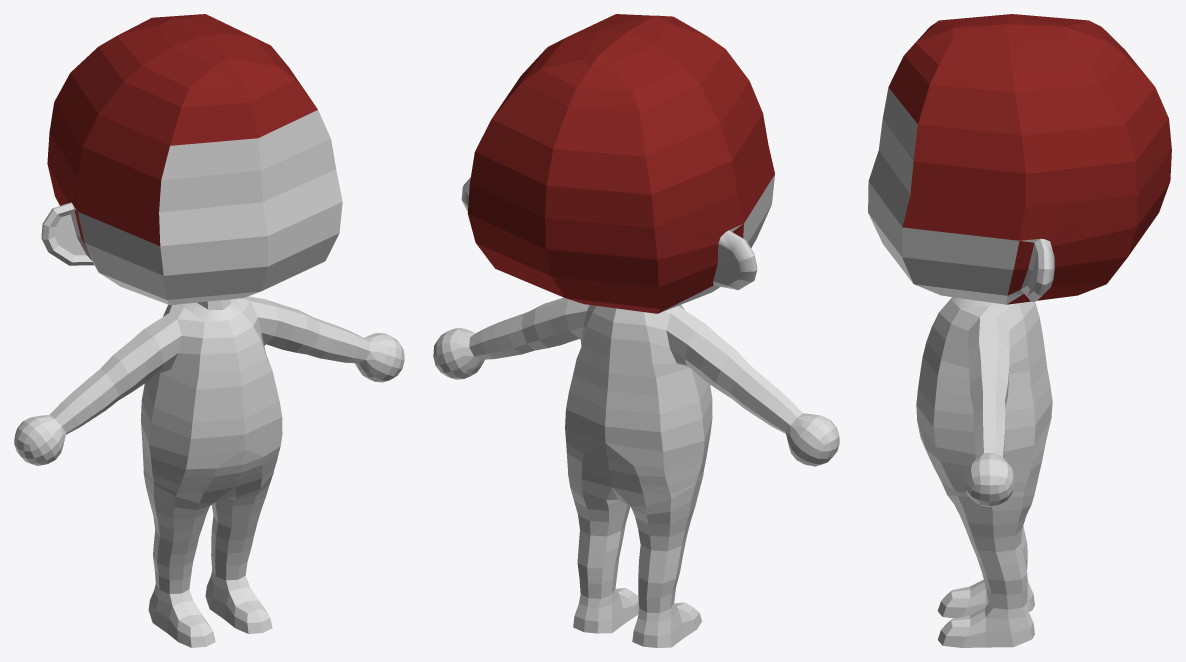
Rendered from jugador.glb.
3 views of the same model, side by side, from view 1: azimuth 30°, elevation 25°; view 2: azimuth 150°, elevation 25°; view 3: azimuth 270°, elevation 25° (orthographic). The views are drawn at different scales.
Parts seen in each view (by area): view 1: AC_Player_Base; view 2: AC_Player_Base; view 3: AC_Player_Base.
Boxes of the visible parts, box(x1,y1,x2,y2) form: AC_Player_Base: box(14, 14, 404, 647); AC_Player_Base: box(433, 14, 839, 647); AC_Player_Base: box(868, 14, 1171, 647).
Bounding box in the file's own units: 8.28 × 11.95 × 5.47.
